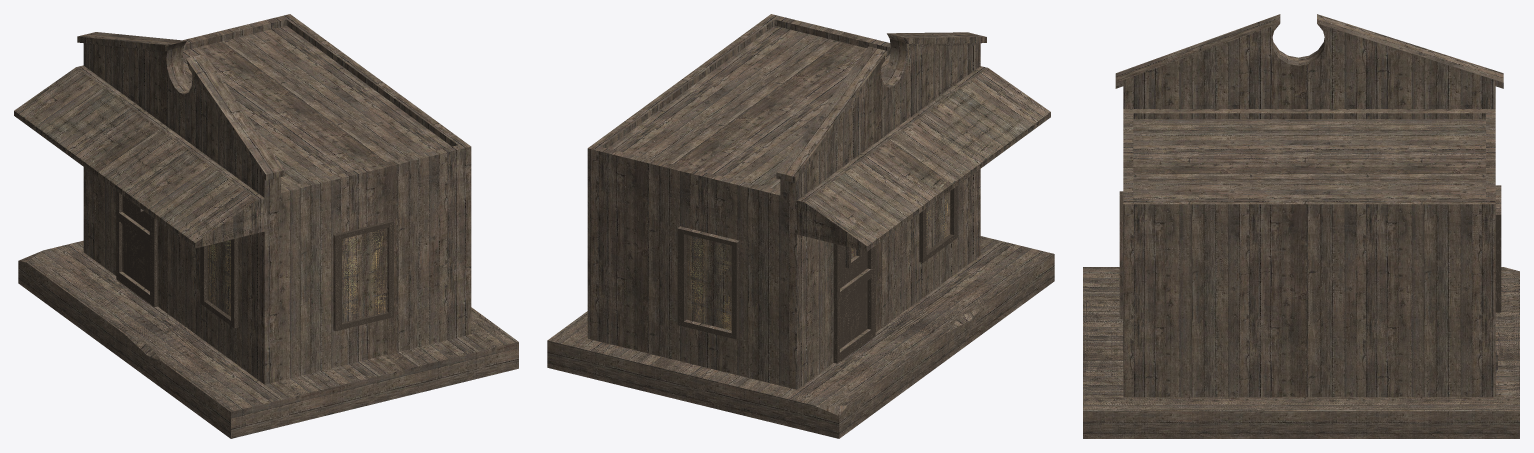
The model's file is House 9 N Ex.fbx.
3 views of the same model, side by side, from view 1: azimuth 30°, elevation 25°; view 2: azimuth 150°, elevation 25°; view 3: azimuth 270°, elevation 25° (orthographic). The views are drawn at different scales.
Visible parts, largest first — view 1: Model; view 2: Model; view 3: Model.
Boxes of the visible parts, x1=… form: Model: x1=14, y1=14, x2=518, y2=438; Model: x1=547, y1=14, x2=1054, y2=438; Model: x1=1083, y1=14, x2=1519, y2=438.
Bounding box in the file's own units: 55.87 × 52.34 × 67.69.
